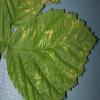Raspberry leaf: (6, 8, 95, 99)
